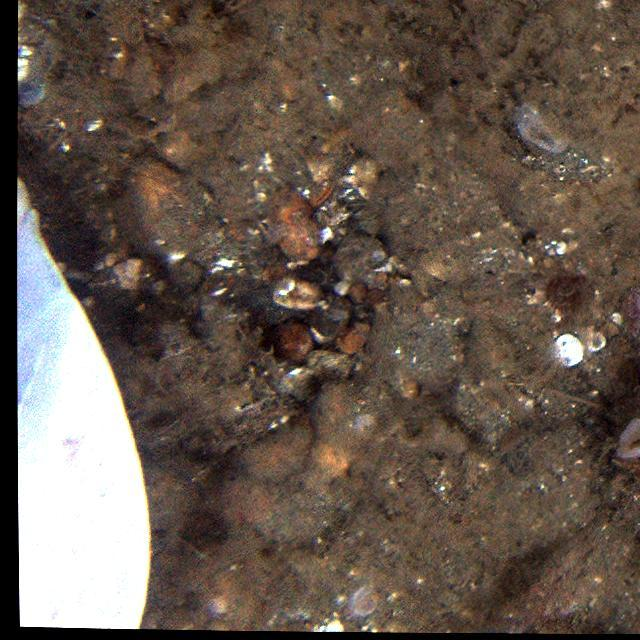skate: (16, 67, 158, 628)
